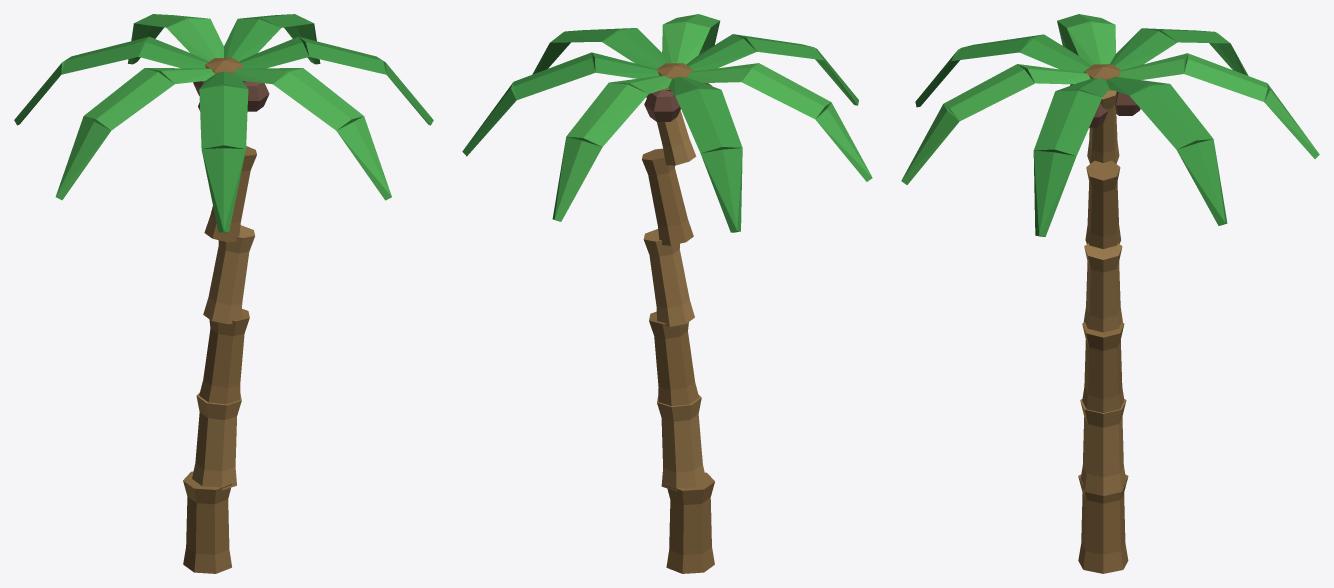
Rendered from palmTree.glb.
3 renders of one model, left to right at view 1: azimuth 30°, elevation 25°; view 2: azimuth 150°, elevation 25°; view 3: azimuth 270°, elevation 25°, orthographic.
Parts seen in each view (by area): view 1: palmTree-m; view 2: palmTree-m; view 3: palmTree-m.
Boxes of the visible parts, bbox=[...] form: palmTree-m: bbox=[14, 14, 433, 573]; palmTree-m: bbox=[462, 14, 872, 573]; palmTree-m: bbox=[901, 14, 1319, 573].
Bounding box in the file's own units: 4.69 × 6.31 × 4.66.
